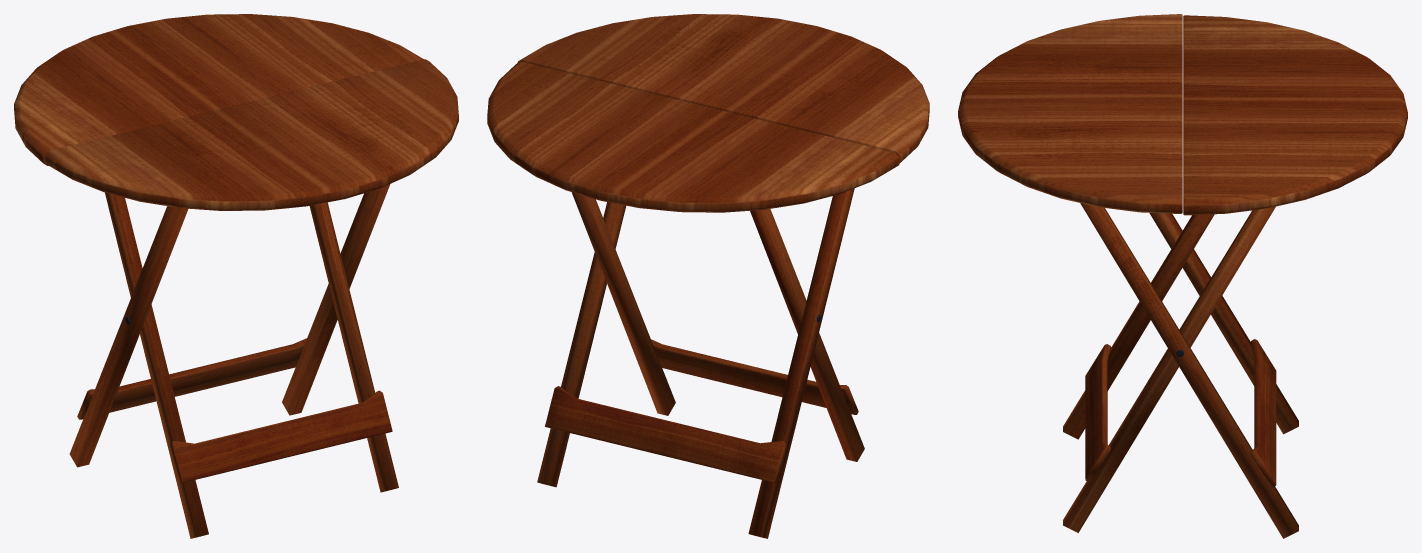
Rendered from wooden_table.glb.
The picture shows the model from 3 angles, left to right: view 1: azimuth 30°, elevation 25°; view 2: azimuth 150°, elevation 25°; view 3: azimuth 270°, elevation 25°; orthographic projection.
Visible parts, largest first — view 1: Table; view 2: Table; view 3: Table.
Boxes of the visible parts, box(x1,y1,x2,y2) form: Table: box(14, 14, 458, 538); Table: box(487, 14, 929, 538); Table: box(958, 14, 1407, 538).
Size of the model in its own units: 0.8588 by 0.7938 by 0.8604.
1 material, 1 textured.
